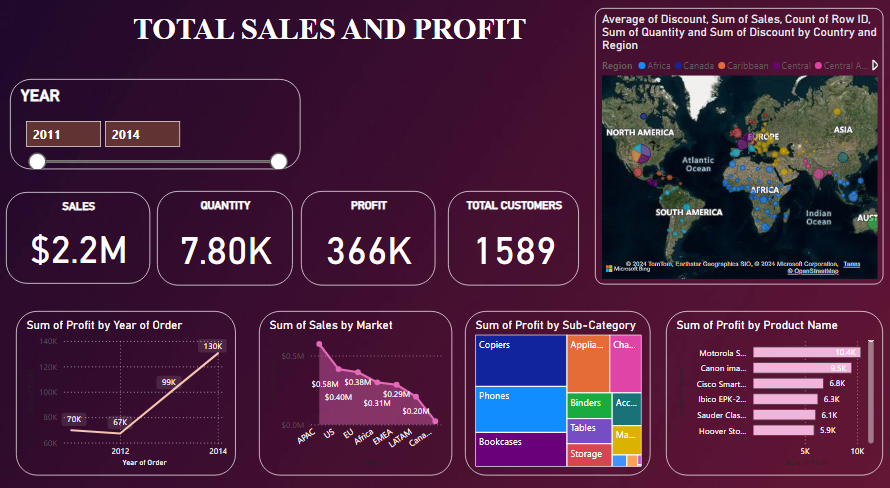

Layout of this report page (visuals, bound fields, positions):
{"tool":"powerbi","page":{"name":"Page 1","canvas":[1280,720],"ordinal":0},"visuals":[{"type":"slicer","title":"YEAR","fields":{"Values":["Orders.Year of Order"]},"box":[6.2,150.7,420,129.2],"z":0,"group":"g3"},{"type":"card","title":"SALES","fields":{"Values":["Sum(Orders.Sales)"]},"box":[0,312.1,208.3,131.5],"z":0,"group":"g1"},{"type":"lineChart","fields":{"Category":["Orders.Year of Order"],"Y":["Sum(Orders.Profit)"]},"box":[13.8,483,318.5,235.4],"z":0,"group":"g2"},{"type":"map","fields":{"Series":["Orders.Region"],"Category":["Orders.Country"],"Size":["Sum(Orders.Sales)"],"Y":["Avg(Orders.Discount)"]},"box":[852.3,49.2,416.9,395.4],"z":1000,"group":"g3"},{"type":"card","title":"QUANTITY","fields":{"Values":["Sum(Orders.Quantity)"]},"box":[218.4,310.7,196.5,135.6],"z":1000,"group":"g1"},{"type":"stackedAreaChart","fields":{"Category":["Orders.Market"],"Y":["Sum(Orders.Sales)"]},"box":[365.6,483,279.6,235.4],"z":1000,"group":"g2"},{"type":"group","id":"g1","title":"Group 1","box":[0,310.7,829.2,135.4],"z":2000,"group":"g3"},{"type":"treemap","fields":{"Group":["Orders.Sub-Category"],"Values":["Sum(Orders.Profit)"]},"box":[663.7,483,268.5,235.4],"z":2000,"group":"g2"},{"type":"card","title":"PROFIT","fields":{"Values":["Sum(Orders.Profit)"]},"box":[426.7,310.7,194.9,135.6],"z":3000,"group":"g1"},{"type":"textbox","box":[173.8,49.2,589.2,101.5],"z":4000,"group":"g3"},{"type":"card","title":"TOTAL CUSTOMERS","fields":{"Values":["Avg(Orders.Total customers)"]},"box":[640,310.7,189.8,135.6],"z":4000,"group":"g1"},{"type":"barChart","fields":{"Y":["Sum(Orders.Profit)"],"Category":["Orders.Product Name"]},"box":[955.4,483,313.8,235.4],"z":6000,"group":"g3"},{"type":"group","id":"g2","title":"Group 2","box":[13.8,483,918.4,235.4],"z":6006,"group":"g3"},{"type":"group","id":"g3","title":"Group 3","box":[0,49.2,1268.9,670.5],"z":6007}]}

Visuals, with their boxes in screenshot pixels (x1, y1, x2, y2), scaled from the page's 1280x720 canvas onto the 890x488 screenshot:
"YEAR" slicer: select_region(4, 102, 296, 190)
"SALES" card: select_region(0, 212, 145, 301)
lineChart - Orders.Year of Order x Sum(Orders.Profit): select_region(10, 327, 231, 487)
map - Orders.Region x Orders.Country: select_region(593, 33, 882, 301)
"QUANTITY" card: select_region(152, 211, 288, 302)
stackedAreaChart - Orders.Market x Sum(Orders.Sales): select_region(254, 327, 449, 487)
"Group 1" group: select_region(0, 211, 577, 302)
treemap - Orders.Sub-Category x Sum(Orders.Profit): select_region(461, 327, 648, 487)
"PROFIT" card: select_region(297, 211, 432, 302)
textbox: select_region(121, 33, 531, 102)
"TOTAL CUSTOMERS" card: select_region(445, 211, 577, 302)
barChart - Sum(Orders.Profit) x Orders.Product Name: select_region(664, 327, 882, 487)
"Group 2" group: select_region(10, 327, 648, 487)
"Group 3" group: select_region(0, 33, 882, 487)
